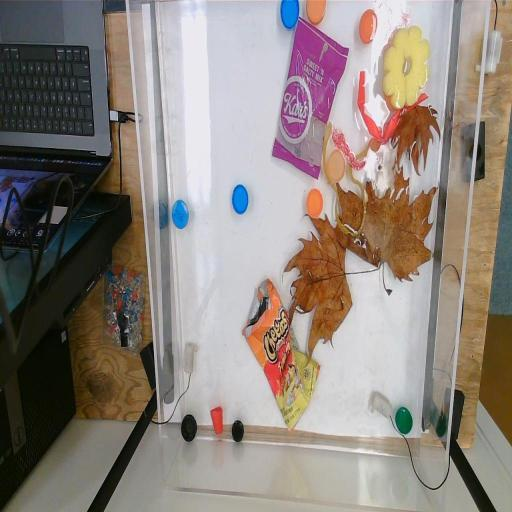Bottle Cap: (359, 8, 378, 44), (171, 198, 189, 230), (232, 183, 250, 215), (328, 149, 346, 181), (306, 0, 328, 26), (280, 0, 300, 27), (306, 188, 324, 218), (395, 406, 413, 435), (181, 414, 197, 443), (231, 420, 244, 444)
Cone Cap: (210, 405, 224, 435)
Leaf: (284, 216, 382, 364), (334, 162, 438, 296), (392, 98, 442, 174)
Netting: (332, 126, 366, 168)
Plastic Bag: (241, 277, 321, 434), (273, 16, 349, 181)
Plastic Strand: (324, 120, 374, 238), (358, 69, 430, 144)
Sponge: (383, 24, 429, 107)
